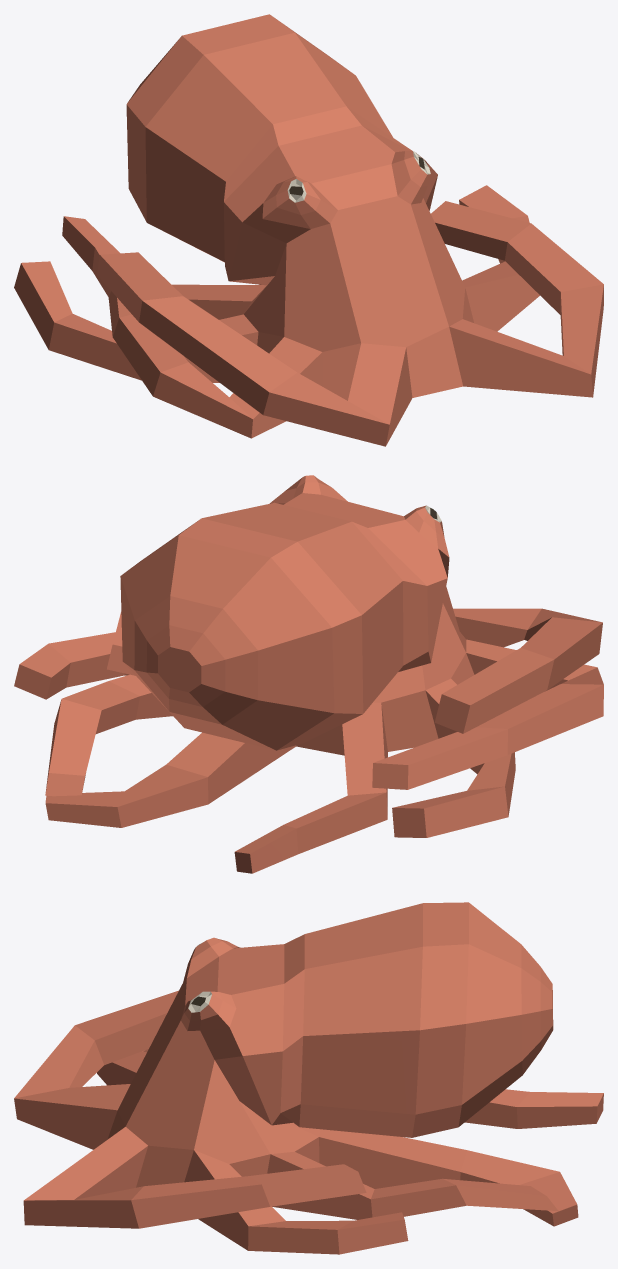
Rendered from OctopusCooked.glb.
The picture shows the model from 3 angles, top to bottom: view 1: azimuth 30°, elevation 25°; view 2: azimuth 150°, elevation 25°; view 3: azimuth 270°, elevation 25°; orthographic projection. The views are drawn at different scales.
Visible parts, largest first — view 1: EXPORT_cooked_octopus; view 2: EXPORT_cooked_octopus; view 3: EXPORT_cooked_octopus.
Boxes of the visible parts, x1,y1,x2,y2 form: EXPORT_cooked_octopus: (14, 14, 603, 446); EXPORT_cooked_octopus: (14, 475, 603, 873); EXPORT_cooked_octopus: (14, 902, 603, 1254).
Bounding box in the file's own units: 0.7286 × 0.382 × 0.825.
